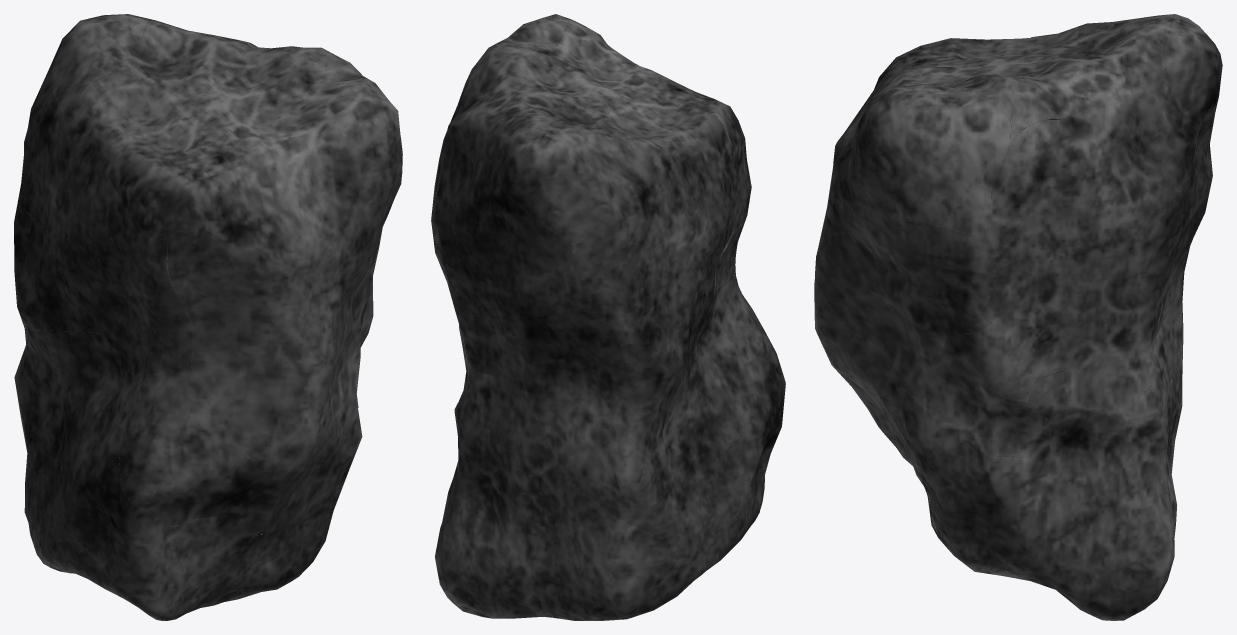
Rendered from Asteroid3.fbx.
3 views of the same model, side by side, from view 1: azimuth 30°, elevation 25°; view 2: azimuth 150°, elevation 25°; view 3: azimuth 270°, elevation 25° (orthographic). The views are drawn at different scales.
Visible parts, largest first — view 1: Asteroid_no_9_cell.010, Asteroid_no_9_cell.063, Asteroid_no_9_cell.070, Asteroid_no_9_cell.044, Asteroid_no_9_cell.014, Asteroid_no_9_cell.061, Asteroid_no_9_cell.021, Asteroid_no_9_cell.037, Asteroid_no_9_cell.030, Asteroid_no_9_cell.038, Asteroid_no_9_cell.071, Asteroid_no_9_cell.027 (+24 smaller); view 2: Asteroid_no_9_cell.075, Asteroid_no_9_cell.011, Asteroid_no_9_cell.013, Asteroid_no_9_cell.042, Asteroid_no_9_cell.038, Asteroid_no_9_cell.004, Asteroid_no_9_cell.043, Asteroid_no_9_cell.076, Asteroid_no_9_cell.047, Asteroid_no_9_cell.069, Asteroid_no_9_cell.070, Asteroid_no_9_cell.021 (+20 smaller); view 3: Asteroid_no_9_cell.039, Asteroid_no_9_cell.046, Asteroid_no_9_cell.018, Asteroid_no_9_cell.066, Asteroid_no_9_cell.050, Asteroid_no_9_cell.041, Asteroid_no_9_cell.072, Asteroid_no_9_cell.003, Asteroid_no_9_cell.065, Asteroid_no_9_cell.004, Asteroid_no_9_cell.021, Asteroid_no_9_cell.054 (+20 smaller).
Boxes of the visible parts, x1,y1,x2,y2 form: Asteroid_no_9_cell.010: [166, 232, 311, 381]; Asteroid_no_9_cell.063: [175, 127, 324, 244]; Asteroid_no_9_cell.070: [51, 146, 151, 342]; Asteroid_no_9_cell.044: [96, 106, 231, 241]; Asteroid_no_9_cell.014: [196, 362, 327, 472]; Asteroid_no_9_cell.061: [291, 92, 402, 214]; Asteroid_no_9_cell.021: [195, 46, 331, 131]; Asteroid_no_9_cell.037: [143, 392, 258, 527]; Asteroid_no_9_cell.030: [147, 516, 287, 603]; Asteroid_no_9_cell.038: [58, 362, 134, 557]; Asteroid_no_9_cell.071: [281, 188, 383, 309]; Asteroid_no_9_cell.027: [110, 238, 193, 378]; Asteroid_no_9_cell.075: [499, 463, 661, 619]; Asteroid_no_9_cell.011: [557, 175, 683, 313]; Asteroid_no_9_cell.013: [452, 158, 572, 317]; Asteroid_no_9_cell.042: [488, 126, 607, 245]; Asteroid_no_9_cell.038: [695, 324, 769, 496]; Asteroid_no_9_cell.004: [435, 441, 507, 610]; Asteroid_no_9_cell.043: [515, 315, 618, 458]; Asteroid_no_9_cell.076: [554, 435, 690, 538]; Asteroid_no_9_cell.047: [460, 372, 555, 504]; Asteroid_no_9_cell.069: [607, 278, 706, 406]; Asteroid_no_9_cell.070: [676, 159, 746, 320]; Asteroid_no_9_cell.021: [470, 44, 635, 104]; Asteroid_no_9_cell.039: [991, 101, 1167, 280]; Asteroid_no_9_cell.046: [906, 295, 1068, 462]; Asteroid_no_9_cell.018: [859, 198, 1016, 349]; Asteroid_no_9_cell.066: [1031, 183, 1200, 357]; Asteroid_no_9_cell.050: [951, 473, 1138, 597]; Asteroid_no_9_cell.041: [878, 85, 1010, 192]; Asteroid_no_9_cell.072: [1048, 336, 1150, 488]; Asteroid_no_9_cell.003: [895, 391, 1002, 551]; Asteroid_no_9_cell.065: [1015, 33, 1166, 136]; Asteroid_no_9_cell.004: [1101, 418, 1177, 584]; Asteroid_no_9_cell.021: [928, 57, 1091, 197]; Asteroid_no_9_cell.054: [877, 156, 992, 235].
Size of the model in its own units: 529 by 909 by 610.
Materials: 1 (1 with a texture image).
